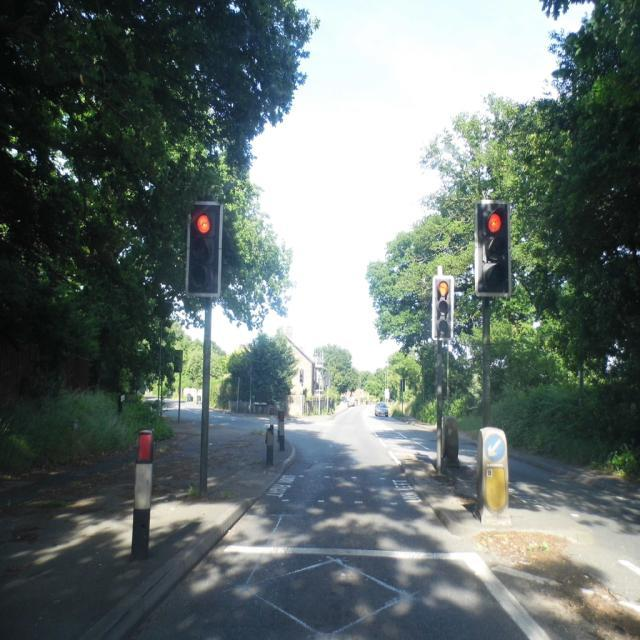traffic light: (187, 199, 225, 300), (474, 203, 512, 300), (432, 274, 454, 339)
